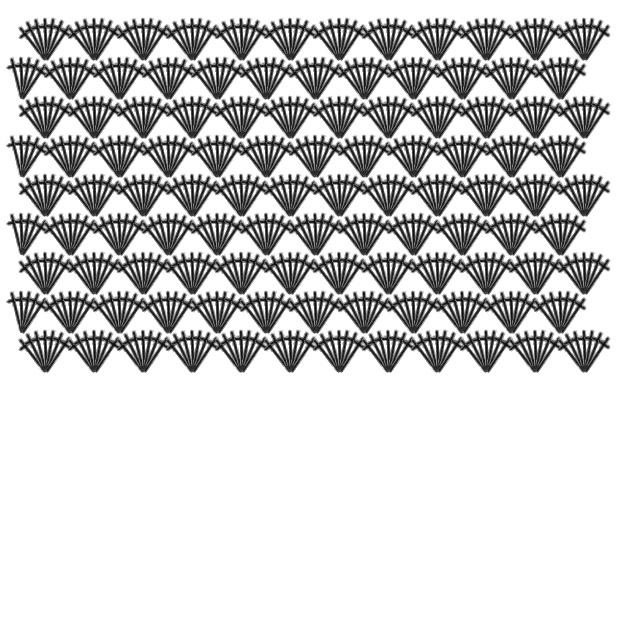enseble_chain: (10, 18, 57, 69), (35, 18, 82, 69), (59, 18, 106, 69), (84, 18, 131, 69), (108, 18, 155, 69), (133, 18, 180, 69), (157, 18, 204, 69), (182, 18, 229, 69), (206, 18, 253, 69), (231, 18, 278, 69), (255, 18, 302, 69), (280, 18, 327, 69), (304, 18, 351, 69), (329, 18, 376, 69), (353, 18, 400, 69), (378, 18, 425, 69), (402, 18, 449, 69), (427, 18, 474, 69), (451, 18, 498, 69), (476, 18, 523, 69), (500, 18, 547, 69), (525, 18, 572, 69), (549, 18, 596, 69), (574, 18, 621, 69), (11, 57, 58, 108), (35, 57, 82, 108), (60, 57, 107, 108), (84, 57, 131, 108), (109, 57, 156, 108), (133, 57, 180, 108), (158, 57, 205, 108), (182, 57, 229, 108), (207, 57, 254, 108), (231, 57, 278, 108), (256, 57, 303, 108), (280, 57, 327, 108), (305, 57, 352, 108), (329, 57, 376, 108), (354, 57, 401, 108), (378, 57, 425, 108), (403, 57, 450, 108), (427, 57, 474, 108), (452, 57, 499, 108), (476, 57, 523, 108), (501, 57, 548, 108), (525, 57, 572, 108), (550, 57, 597, 108), (10, 96, 57, 147), (35, 96, 82, 147), (59, 96, 106, 147), (84, 96, 131, 147), (108, 96, 155, 147), (133, 96, 180, 147), (157, 96, 204, 147), (182, 96, 229, 147), (206, 96, 253, 147), (231, 96, 278, 147), (255, 96, 302, 147), (280, 96, 327, 147), (304, 96, 351, 147), (329, 96, 376, 147), (353, 96, 400, 147), (378, 96, 425, 147), (402, 96, 449, 147), (427, 96, 474, 147), (451, 96, 498, 147), (476, 96, 523, 147), (500, 96, 547, 147), (525, 96, 572, 147), (549, 96, 596, 147), (574, 96, 621, 147), (11, 135, 58, 186), (35, 135, 82, 186), (60, 135, 107, 186), (84, 135, 131, 186), (109, 135, 156, 186), (133, 135, 180, 186), (158, 135, 205, 186), (182, 135, 229, 186), (207, 135, 254, 186), (231, 135, 278, 186), (256, 135, 303, 186), (280, 135, 327, 186), (305, 135, 352, 186), (329, 135, 376, 186), (354, 135, 401, 186), (378, 135, 425, 186), (403, 135, 450, 186), (427, 135, 474, 186), (452, 135, 499, 186), (476, 135, 523, 186), (501, 135, 548, 186), (525, 135, 572, 186), (550, 135, 597, 186), (10, 174, 57, 225), (35, 174, 82, 225), (59, 174, 106, 225), (84, 174, 131, 225), (108, 174, 155, 225), (133, 174, 180, 225), (157, 174, 204, 225), (182, 174, 229, 225), (206, 174, 253, 225), (231, 174, 278, 225), (255, 174, 302, 225), (280, 174, 327, 225), (304, 174, 351, 225), (329, 174, 376, 225), (353, 174, 400, 225), (378, 174, 425, 225), (402, 174, 449, 225), (427, 174, 474, 225), (451, 174, 498, 225), (476, 174, 523, 225), (500, 174, 547, 225), (525, 174, 572, 225), (549, 174, 596, 225), (574, 174, 621, 225), (11, 213, 58, 264), (35, 213, 82, 264), (60, 213, 107, 264), (84, 213, 131, 264), (109, 213, 156, 264), (133, 213, 180, 264), (158, 213, 205, 264), (182, 213, 229, 264), (207, 213, 254, 264), (231, 213, 278, 264), (256, 213, 303, 264), (280, 213, 327, 264), (305, 213, 352, 264), (329, 213, 376, 264), (354, 213, 401, 264), (378, 213, 425, 264), (403, 213, 450, 264), (427, 213, 474, 264), (452, 213, 499, 264), (476, 213, 523, 264), (501, 213, 548, 264), (525, 213, 572, 264), (550, 213, 597, 264), (10, 252, 57, 303), (35, 252, 82, 303), (59, 252, 106, 303), (84, 252, 131, 303), (108, 252, 155, 303), (133, 252, 180, 303), (157, 252, 204, 303), (182, 252, 229, 303), (206, 252, 253, 303), (231, 252, 278, 303), (255, 252, 302, 303), (280, 252, 327, 303), (304, 252, 351, 303), (329, 252, 376, 303), (353, 252, 400, 303), (378, 252, 425, 303), (402, 252, 449, 303), (427, 252, 474, 303), (451, 252, 498, 303), (476, 252, 523, 303), (500, 252, 547, 303), (525, 252, 572, 303), (549, 252, 596, 303), (574, 252, 621, 303), (11, 291, 58, 342), (35, 291, 82, 342), (60, 291, 107, 342), (84, 291, 131, 342), (109, 291, 156, 342), (133, 291, 180, 342), (158, 291, 205, 342), (182, 291, 229, 342), (207, 291, 254, 342), (231, 291, 278, 342), (256, 291, 303, 342), (280, 291, 327, 342), (305, 291, 352, 342), (329, 291, 376, 342), (354, 291, 401, 342), (378, 291, 425, 342), (403, 291, 450, 342), (427, 291, 474, 342), (452, 291, 499, 342), (476, 291, 523, 342), (501, 291, 548, 342), (525, 291, 572, 342), (550, 291, 597, 342), (10, 330, 57, 381), (35, 330, 82, 381), (59, 330, 106, 381), (84, 330, 131, 381), (108, 330, 155, 381), (133, 330, 180, 381), (157, 330, 204, 381), (182, 330, 229, 381), (206, 330, 253, 381), (231, 330, 278, 381), (255, 330, 302, 381), (280, 330, 327, 381), (304, 330, 351, 381), (329, 330, 376, 381), (353, 330, 400, 381), (378, 330, 425, 381), (402, 330, 449, 381), (427, 330, 474, 381), (451, 330, 498, 381), (476, 330, 523, 381), (500, 330, 547, 381), (525, 330, 572, 381), (549, 330, 596, 381), (574, 330, 621, 381), (16, 16, 58, 66), (34, 16, 76, 66), (65, 16, 107, 66), (83, 16, 125, 66), (114, 16, 156, 66), (132, 16, 174, 66), (163, 16, 205, 66), (181, 16, 223, 66), (212, 16, 254, 66), (230, 16, 272, 66), (261, 16, 303, 66), (279, 16, 321, 66), (310, 16, 352, 66), (328, 16, 370, 66), (359, 16, 401, 66), (377, 16, 419, 66), (408, 16, 450, 66), (426, 16, 468, 66), (457, 16, 499, 66), (475, 16, 517, 66), (506, 16, 548, 66), (524, 16, 566, 66), (555, 16, 597, 66), (573, 16, 615, 66), (10, 55, 52, 105), (41, 55, 83, 105), (59, 55, 101, 105), (90, 55, 132, 105), (108, 55, 150, 105), (139, 55, 181, 105), (157, 55, 199, 105), (188, 55, 230, 105), (206, 55, 248, 105), (237, 55, 279, 105), (255, 55, 297, 105), (286, 55, 328, 105), (304, 55, 346, 105), (335, 55, 377, 105), (353, 55, 395, 105), (384, 55, 426, 105), (402, 55, 444, 105), (433, 55, 475, 105), (451, 55, 493, 105), (482, 55, 524, 105), (500, 55, 542, 105), (531, 55, 573, 105), (549, 55, 591, 105), (16, 94, 58, 144), (34, 94, 76, 144), (65, 94, 107, 144), (83, 94, 125, 144), (114, 94, 156, 144), (132, 94, 174, 144), (163, 94, 205, 144), (181, 94, 223, 144), (212, 94, 254, 144), (230, 94, 272, 144), (261, 94, 303, 144), (279, 94, 321, 144), (310, 94, 352, 144), (328, 94, 370, 144), (359, 94, 401, 144), (377, 94, 419, 144), (408, 94, 450, 144), (426, 94, 468, 144), (457, 94, 499, 144), (475, 94, 517, 144), (506, 94, 548, 144), (524, 94, 566, 144), (555, 94, 597, 144), (573, 94, 615, 144), (10, 133, 52, 183), (41, 133, 83, 183), (59, 133, 101, 183), (90, 133, 132, 183), (108, 133, 150, 183), (139, 133, 181, 183), (157, 133, 199, 183), (188, 133, 230, 183), (206, 133, 248, 183), (237, 133, 279, 183), (255, 133, 297, 183), (286, 133, 328, 183), (304, 133, 346, 183), (335, 133, 377, 183), (353, 133, 395, 183), (384, 133, 426, 183), (402, 133, 444, 183), (433, 133, 475, 183), (451, 133, 493, 183), (482, 133, 524, 183), (500, 133, 542, 183), (531, 133, 573, 183), (549, 133, 591, 183), (16, 172, 58, 222), (34, 172, 76, 222), (65, 172, 107, 222), (83, 172, 125, 222), (114, 172, 156, 222), (132, 172, 174, 222), (163, 172, 205, 222), (181, 172, 223, 222), (212, 172, 254, 222), (230, 172, 272, 222), (261, 172, 303, 222), (279, 172, 321, 222), (310, 172, 352, 222), (328, 172, 370, 222), (359, 172, 401, 222), (377, 172, 419, 222), (408, 172, 450, 222), (426, 172, 468, 222), (457, 172, 499, 222), (475, 172, 517, 222), (506, 172, 548, 222), (524, 172, 566, 222), (555, 172, 597, 222), (573, 172, 615, 222), (10, 211, 52, 261), (41, 211, 83, 261), (59, 211, 101, 261), (90, 211, 132, 261), (108, 211, 150, 261), (139, 211, 181, 261), (157, 211, 199, 261), (188, 211, 230, 261), (206, 211, 248, 261), (237, 211, 279, 261), (255, 211, 297, 261), (286, 211, 328, 261), (304, 211, 346, 261), (335, 211, 377, 261), (353, 211, 395, 261), (384, 211, 426, 261), (402, 211, 444, 261), (433, 211, 475, 261), (451, 211, 493, 261), (482, 211, 524, 261), (500, 211, 542, 261), (531, 211, 573, 261), (549, 211, 591, 261), (16, 250, 58, 300), (34, 250, 76, 300), (65, 250, 107, 300), (83, 250, 125, 300), (114, 250, 156, 300), (132, 250, 174, 300), (163, 250, 205, 300), (181, 250, 223, 300), (212, 250, 254, 300), (230, 250, 272, 300), (261, 250, 303, 300), (279, 250, 321, 300), (310, 250, 352, 300), (328, 250, 370, 300), (359, 250, 401, 300), (377, 250, 419, 300), (408, 250, 450, 300), (426, 250, 468, 300), (457, 250, 499, 300), (475, 250, 517, 300), (506, 250, 548, 300), (524, 250, 566, 300), (555, 250, 597, 300), (573, 250, 615, 300), (10, 289, 52, 339), (41, 289, 83, 339), (59, 289, 101, 339), (90, 289, 132, 339), (108, 289, 150, 339), (139, 289, 181, 339), (157, 289, 199, 339), (188, 289, 230, 339), (206, 289, 248, 339), (237, 289, 279, 339), (255, 289, 297, 339), (286, 289, 328, 339), (304, 289, 346, 339), (335, 289, 377, 339), (353, 289, 395, 339), (384, 289, 426, 339), (402, 289, 444, 339), (433, 289, 475, 339), (451, 289, 493, 339), (482, 289, 524, 339), (500, 289, 542, 339), (531, 289, 573, 339), (549, 289, 591, 339), (16, 328, 58, 378), (34, 328, 76, 378), (65, 328, 107, 378), (83, 328, 125, 378), (114, 328, 156, 378), (132, 328, 174, 378), (163, 328, 205, 378), (181, 328, 223, 378), (212, 328, 254, 378), (230, 328, 272, 378), (261, 328, 303, 378), (279, 328, 321, 378), (310, 328, 352, 378), (328, 328, 370, 378), (359, 328, 401, 378), (377, 328, 419, 378), (408, 328, 450, 378), (426, 328, 468, 378), (457, 328, 499, 378), (475, 328, 517, 378), (506, 328, 548, 378), (524, 328, 566, 378), (555, 328, 597, 378), (573, 328, 615, 378), (24, 15, 59, 64), (33, 15, 68, 64), (73, 15, 108, 64), (82, 15, 117, 64), (122, 15, 157, 64), (131, 15, 166, 64), (171, 15, 206, 64), (180, 15, 215, 64), (220, 15, 255, 64), (229, 15, 264, 64), (269, 15, 304, 64), (278, 15, 313, 64), (318, 15, 353, 64), (327, 15, 362, 64), (367, 15, 402, 64), (376, 15, 411, 64), (416, 15, 451, 64), (425, 15, 460, 64), (465, 15, 500, 64), (474, 15, 509, 64), (514, 15, 549, 64), (523, 15, 558, 64), (563, 15, 598, 64), (572, 15, 607, 64), (0, 54, 35, 103), (9, 54, 44, 103), (49, 54, 84, 103), (58, 54, 93, 103), (98, 54, 133, 103), (107, 54, 142, 103), (147, 54, 182, 103), (156, 54, 191, 103), (196, 54, 231, 103), (205, 54, 240, 103), (245, 54, 280, 103), (254, 54, 289, 103), (294, 54, 329, 103), (303, 54, 338, 103), (343, 54, 378, 103), (352, 54, 387, 103), (392, 54, 427, 103), (401, 54, 436, 103), (441, 54, 476, 103), (450, 54, 485, 103), (490, 54, 525, 103), (499, 54, 534, 103), (539, 54, 574, 103), (548, 54, 583, 103), (24, 93, 59, 142), (33, 93, 68, 142), (73, 93, 108, 142), (82, 93, 117, 142), (122, 93, 157, 142), (131, 93, 166, 142), (171, 93, 206, 142), (180, 93, 215, 142), (220, 93, 255, 142), (229, 93, 264, 142), (269, 93, 304, 142), (278, 93, 313, 142), (318, 93, 353, 142), (327, 93, 362, 142), (367, 93, 402, 142), (376, 93, 411, 142), (416, 93, 451, 142), (425, 93, 460, 142), (465, 93, 500, 142), (474, 93, 509, 142), (514, 93, 549, 142), (523, 93, 558, 142), (563, 93, 598, 142), (572, 93, 607, 142), (0, 132, 35, 181), (9, 132, 44, 181), (49, 132, 84, 181), (58, 132, 93, 181), (98, 132, 133, 181), (107, 132, 142, 181), (147, 132, 182, 181), (156, 132, 191, 181), (196, 132, 231, 181), (205, 132, 240, 181), (245, 132, 280, 181), (254, 132, 289, 181), (294, 132, 329, 181), (303, 132, 338, 181), (343, 132, 378, 181), (352, 132, 387, 181), (392, 132, 427, 181), (401, 132, 436, 181), (441, 132, 476, 181), (450, 132, 485, 181), (490, 132, 525, 181), (499, 132, 534, 181), (539, 132, 574, 181), (548, 132, 583, 181), (24, 171, 59, 220), (33, 171, 68, 220), (73, 171, 108, 220), (82, 171, 117, 220), (122, 171, 157, 220), (131, 171, 166, 220), (171, 171, 206, 220), (180, 171, 215, 220), (220, 171, 255, 220), (229, 171, 264, 220), (269, 171, 304, 220), (278, 171, 313, 220), (318, 171, 353, 220), (327, 171, 362, 220), (367, 171, 402, 220), (376, 171, 411, 220), (416, 171, 451, 220), (425, 171, 460, 220), (465, 171, 500, 220), (474, 171, 509, 220), (514, 171, 549, 220), (523, 171, 558, 220), (563, 171, 598, 220), (572, 171, 607, 220), (0, 210, 35, 259), (9, 210, 44, 259), (49, 210, 84, 259), (58, 210, 93, 259), (98, 210, 133, 259), (107, 210, 142, 259), (147, 210, 182, 259), (156, 210, 191, 259), (196, 210, 231, 259), (205, 210, 240, 259), (245, 210, 280, 259), (254, 210, 289, 259), (294, 210, 329, 259), (303, 210, 338, 259), (343, 210, 378, 259), (352, 210, 387, 259), (392, 210, 427, 259), (401, 210, 436, 259), (441, 210, 476, 259), (450, 210, 485, 259), (490, 210, 525, 259), (499, 210, 534, 259), (539, 210, 574, 259), (548, 210, 583, 259), (24, 249, 59, 298), (33, 249, 68, 298), (73, 249, 108, 298), (82, 249, 117, 298), (122, 249, 157, 298), (131, 249, 166, 298), (171, 249, 206, 298), (180, 249, 215, 298), (220, 249, 255, 298), (229, 249, 264, 298), (269, 249, 304, 298), (278, 249, 313, 298), (318, 249, 353, 298), (327, 249, 362, 298), (367, 249, 402, 298), (376, 249, 411, 298), (416, 249, 451, 298), (425, 249, 460, 298), (465, 249, 500, 298), (474, 249, 509, 298), (514, 249, 549, 298), (523, 249, 558, 298), (563, 249, 598, 298), (572, 249, 607, 298), (0, 288, 35, 337), (9, 288, 44, 337), (49, 288, 84, 337), (58, 288, 93, 337), (98, 288, 133, 337), (107, 288, 142, 337), (147, 288, 182, 337), (156, 288, 191, 337), (196, 288, 231, 337), (205, 288, 240, 337), (245, 288, 280, 337), (254, 288, 289, 337), (294, 288, 329, 337), (303, 288, 338, 337), (343, 288, 378, 337), (352, 288, 387, 337), (392, 288, 427, 337), (401, 288, 436, 337), (441, 288, 476, 337), (450, 288, 485, 337), (490, 288, 525, 337), (499, 288, 534, 337), (539, 288, 574, 337), (548, 288, 583, 337), (24, 327, 59, 376), (33, 327, 68, 376), (73, 327, 108, 376), (82, 327, 117, 376), (122, 327, 157, 376), (131, 327, 166, 376), (171, 327, 206, 376), (180, 327, 215, 376), (220, 327, 255, 376), (229, 327, 264, 376), (269, 327, 304, 376), (278, 327, 313, 376), (318, 327, 353, 376), (327, 327, 362, 376), (367, 327, 402, 376), (376, 327, 411, 376), (416, 327, 451, 376), (425, 327, 460, 376), (465, 327, 500, 376), (474, 327, 509, 376), (514, 327, 549, 376), (523, 327, 558, 376), (563, 327, 598, 376), (572, 327, 607, 376), (33, 17, 59, 61), (82, 17, 108, 61), (131, 17, 157, 61), (180, 17, 206, 61), (229, 17, 255, 61), (278, 17, 304, 61), (327, 17, 353, 61), (376, 17, 402, 61), (425, 17, 451, 61), (474, 17, 500, 61), (523, 17, 549, 61), (572, 17, 598, 61), (9, 56, 35, 100), (58, 56, 84, 100), (107, 56, 133, 100), (156, 56, 182, 100), (205, 56, 231, 100), (254, 56, 280, 100), (303, 56, 329, 100), (352, 56, 378, 100), (401, 56, 427, 100), (450, 56, 476, 100), (499, 56, 525, 100), (548, 56, 574, 100), (33, 95, 59, 139), (82, 95, 108, 139), (131, 95, 157, 139), (180, 95, 206, 139), (229, 95, 255, 139), (278, 95, 304, 139), (327, 95, 353, 139), (376, 95, 402, 139), (425, 95, 451, 139), (474, 95, 500, 139), (523, 95, 549, 139), (572, 95, 598, 139), (9, 134, 35, 178), (58, 134, 84, 178), (107, 134, 133, 178), (156, 134, 182, 178), (205, 134, 231, 178), (254, 134, 280, 178), (303, 134, 329, 178), (352, 134, 378, 178), (401, 134, 427, 178), (450, 134, 476, 178), (499, 134, 525, 178), (548, 134, 574, 178), (33, 173, 59, 217), (82, 173, 108, 217), (131, 173, 157, 217), (180, 173, 206, 217), (229, 173, 255, 217), (278, 173, 304, 217), (327, 173, 353, 217), (376, 173, 402, 217), (425, 173, 451, 217), (474, 173, 500, 217), (523, 173, 549, 217), (572, 173, 598, 217), (9, 212, 35, 256), (58, 212, 84, 256), (107, 212, 133, 256), (156, 212, 182, 256), (205, 212, 231, 256), (254, 212, 280, 256), (303, 212, 329, 256), (352, 212, 378, 256), (401, 212, 427, 256), (450, 212, 476, 256), (499, 212, 525, 256), (548, 212, 574, 256), (33, 251, 59, 295), (82, 251, 108, 295), (131, 251, 157, 295), (180, 251, 206, 295), (229, 251, 255, 295), (278, 251, 304, 295), (327, 251, 353, 295), (376, 251, 402, 295), (425, 251, 451, 295), (474, 251, 500, 295), (523, 251, 549, 295), (572, 251, 598, 295), (9, 290, 35, 334), (58, 290, 84, 334), (107, 290, 133, 334), (156, 290, 182, 334), (205, 290, 231, 334), (254, 290, 280, 334), (303, 290, 329, 334), (352, 290, 378, 334), (401, 290, 427, 334), (450, 290, 476, 334), (499, 290, 525, 334), (548, 290, 574, 334), (33, 329, 59, 373), (82, 329, 108, 373), (131, 329, 157, 373), (180, 329, 206, 373), (229, 329, 255, 373), (278, 329, 304, 373), (327, 329, 353, 373), (376, 329, 402, 373), (425, 329, 451, 373), (474, 329, 500, 373), (523, 329, 549, 373), (572, 329, 598, 373)
